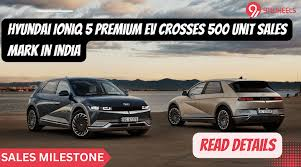Honda Ioniq: (25, 77, 152, 145), (165, 75, 287, 133)
